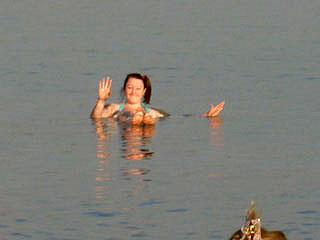human: (94, 66, 224, 128)
